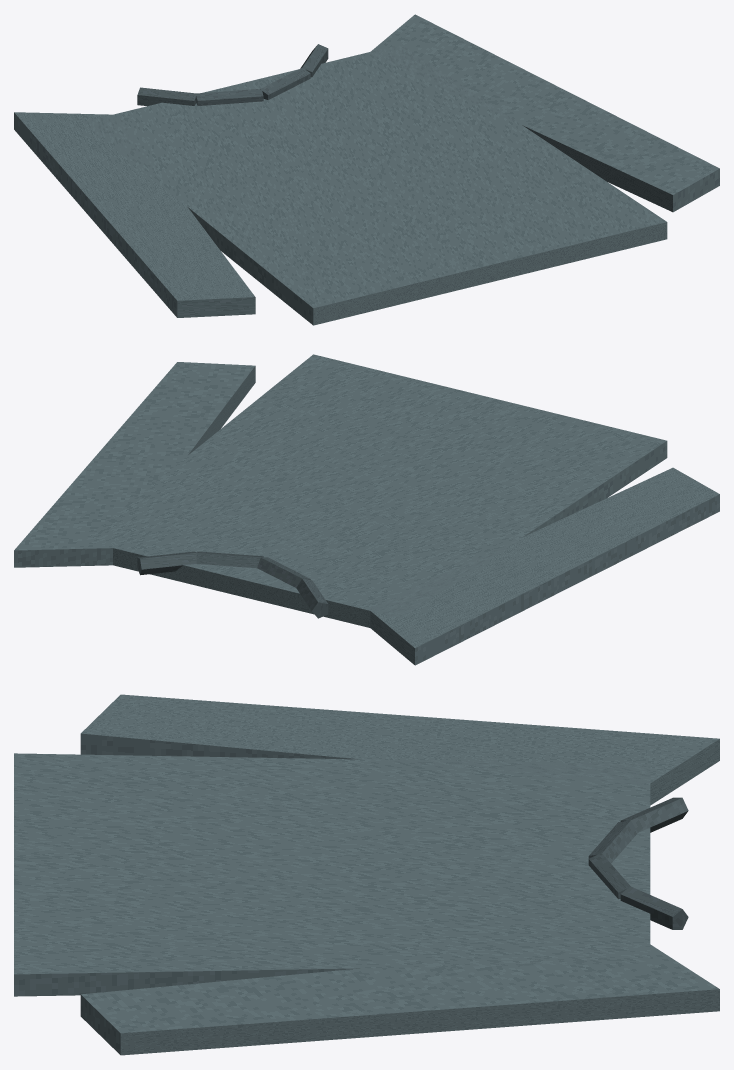
Rendered from tunic.glb.
3 renders of one model, top to bottom at view 1: azimuth 30°, elevation 25°; view 2: azimuth 150°, elevation 25°; view 3: azimuth 270°, elevation 25°, orthographic. The views are drawn at different scales.
Visible parts, largest first — view 1: block_shirt torso, block_sleeve or strap -1, block_sleeve or strap 1, block_bound collar 1, block_bound collar 0, block_bound collar 2; view 2: block_shirt torso, block_sleeve or strap -1, block_sleeve or strap 1, block_bound collar 3, block_bound collar 2, block_bound collar 0, block_bound collar 1; view 3: block_shirt torso, block_sleeve or strap 1, block_sleeve or strap -1, block_bound collar 3, block_bound collar 0, block_bound collar 1, block_bound collar 2.
Boxes of the visible parts, x1,y1,x2,y2 form: block_shirt torso: [83, 44, 667, 325]; block_sleeve or strap -1: [14, 112, 255, 317]; block_sleeve or strap 1: [369, 14, 719, 212]; block_bound collar 1: [196, 88, 263, 105]; block_bound collar 0: [137, 87, 196, 106]; block_bound collar 2: [260, 68, 310, 99]; block_shirt torso: [83, 354, 667, 627]; block_sleeve or strap -1: [369, 467, 719, 665]; block_sleeve or strap 1: [14, 362, 255, 567]; block_bound collar 3: [137, 551, 196, 575]; block_bound collar 2: [196, 551, 263, 568]; block_bound collar 0: [296, 578, 328, 618]; block_bound collar 1: [257, 557, 310, 587]; block_shirt torso: [14, 753, 650, 996]; block_sleeve or strap 1: [80, 944, 719, 1055]; block_sleeve or strap -1: [80, 694, 719, 805]; block_bound collar 3: [620, 886, 688, 929]; block_bound collar 0: [620, 797, 688, 832]; block_bound collar 1: [588, 820, 637, 863]; block_bound collar 2: [588, 853, 630, 899].
Bounding box in the file's own units: 0.46 × 0.0207 × 0.405.
Materials: 1 (1 with a texture image).
